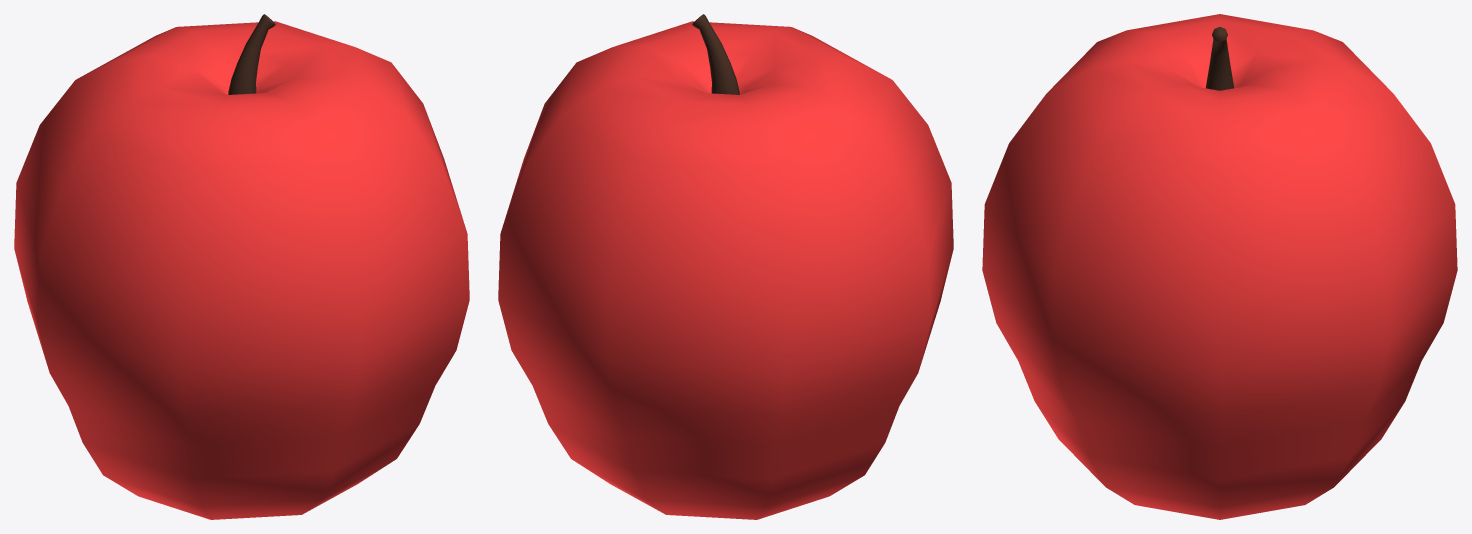
Rendered from apple.glb.
3 views of the same model, side by side, from view 1: azimuth 30°, elevation 25°; view 2: azimuth 150°, elevation 25°; view 3: azimuth 270°, elevation 25° (orthographic).
Parts seen in each view (by area): view 1: Apple; view 2: Apple; view 3: Apple.
Boxes of the visible parts, left/top/right/bottom form: Apple: left=14, top=14, right=469, bottom=519; Apple: left=498, top=14, right=953, bottom=519; Apple: left=982, top=14, right=1457, bottom=519.
Size of the model in its own units: 0.0704 by 0.0754 by 0.0704.
